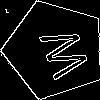W: (30, 24, 91, 84)
